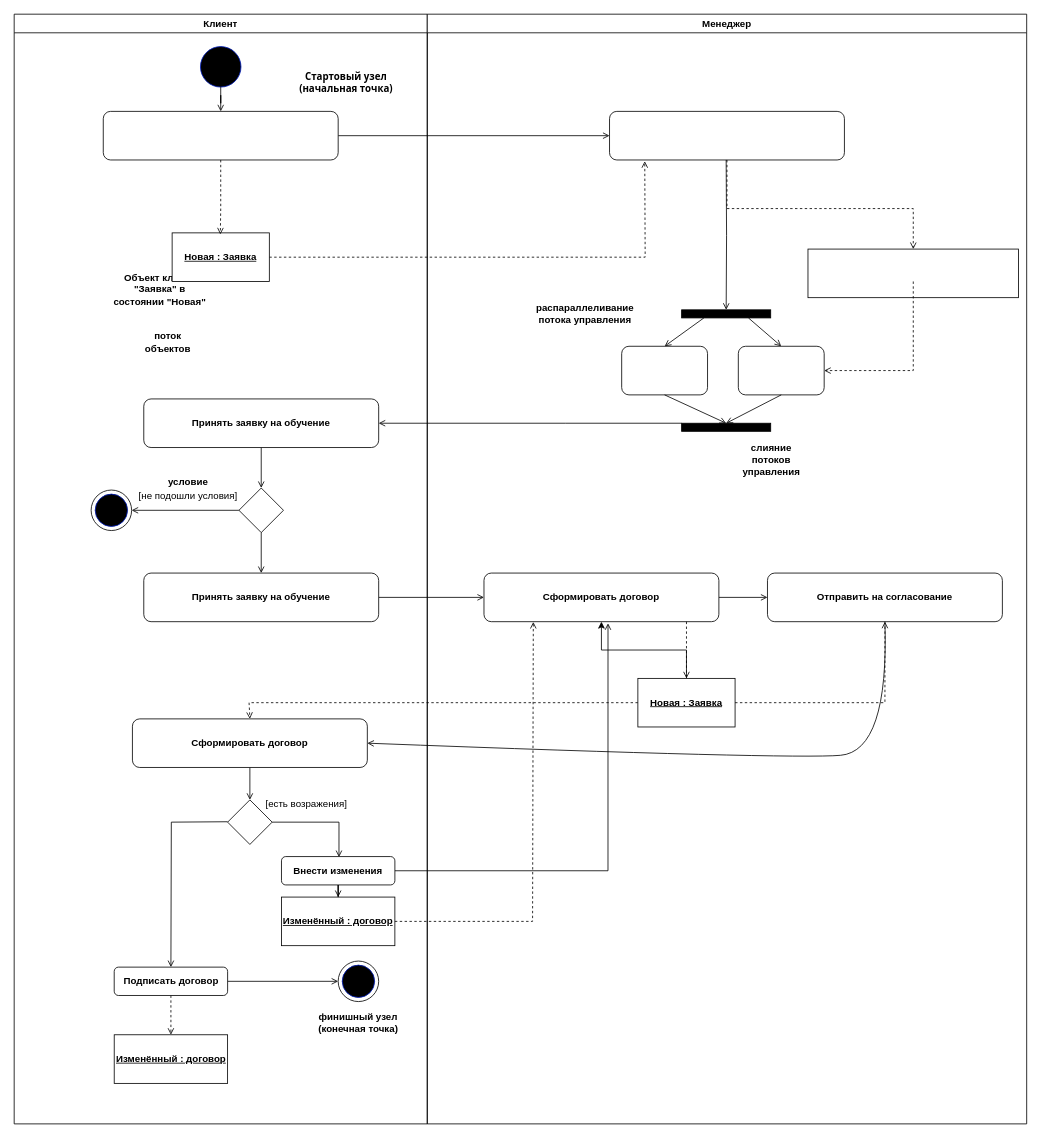
This 1041x1138 diagram has some shape labels left out. Each missing label, with the centre of its shape:
Новое : Коммерческие предложение: (x=913, y=273)
Оставить заявку на обучение: (x=220, y=135)
Отправить письмо: (x=781, y=370)
Позвонить: (x=664, y=370)
Сформировать коммерческое предложение: (x=726, y=135)
